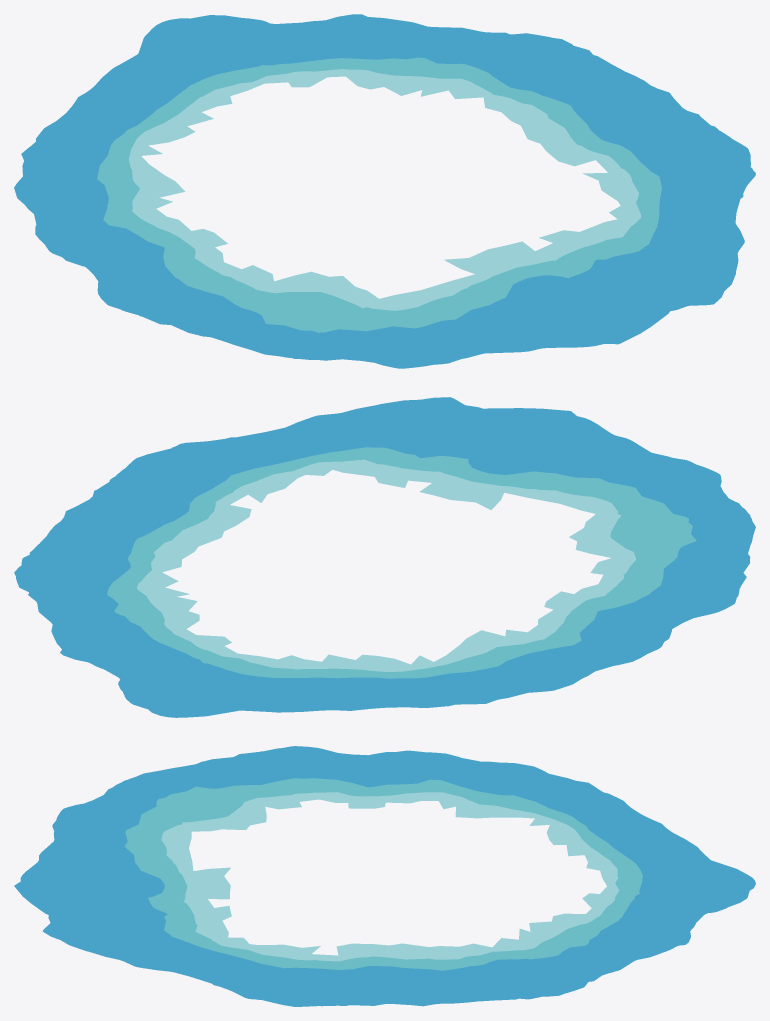
File: Isl-islet6-Water.fbx
3 views of the same model, one above another, from view 1: azimuth 30°, elevation 25°; view 2: azimuth 150°, elevation 25°; view 3: azimuth 270°, elevation 25° (orthographic). The views are drawn at different scales.
Parts seen in each view (by area): view 1: Isl-islet6-Water; view 2: Isl-islet6-Water; view 3: Isl-islet6-Water.
Part boxes in pixels (x1,y1,x2,y2): Isl-islet6-Water: (14,14,755,368); Isl-islet6-Water: (14,397,755,717); Isl-islet6-Water: (14,746,755,1006).
Bounding box in the file's own units: 34.33 × 0 × 41.26.
